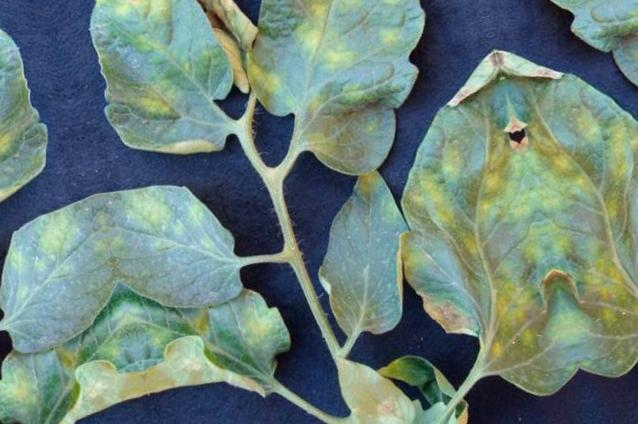Tomato mold leaf: (349, 41, 588, 424), (208, 0, 476, 195), (106, 198, 308, 424), (53, 0, 253, 186), (89, 141, 262, 353), (293, 146, 441, 372), (319, 325, 432, 424)
